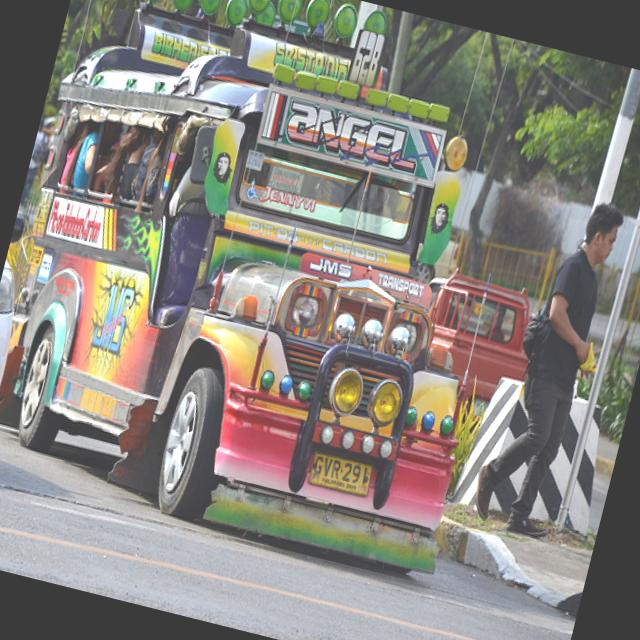Vehicle: (0, 0, 563, 580), (402, 259, 550, 418), (0, 169, 56, 474)
